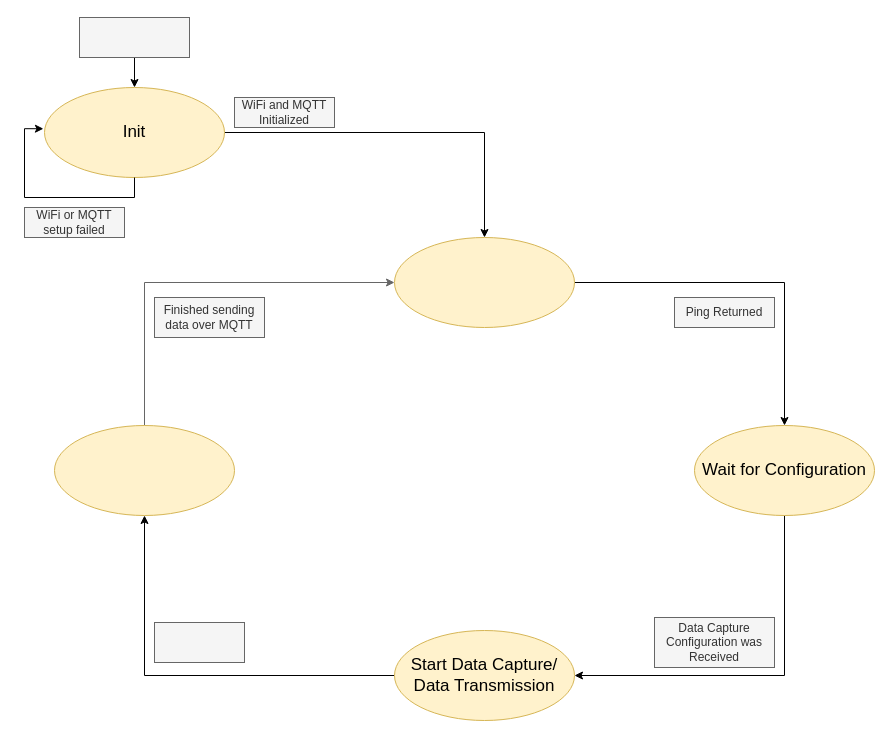
The diagram is 892 pixels wide and 738 high, and some of its shapes have lost their labels. The shapes that lost their labels are listed below. From the top down, each one's centre as x and y in pixels, then its label:
At point 134,37: "Power On / Reset".
At point 484,282: "Ping Server".
At point 144,470: "Finish Data Capture/ Data Transmission".
At point 199,642: "Timed data capture ended".
